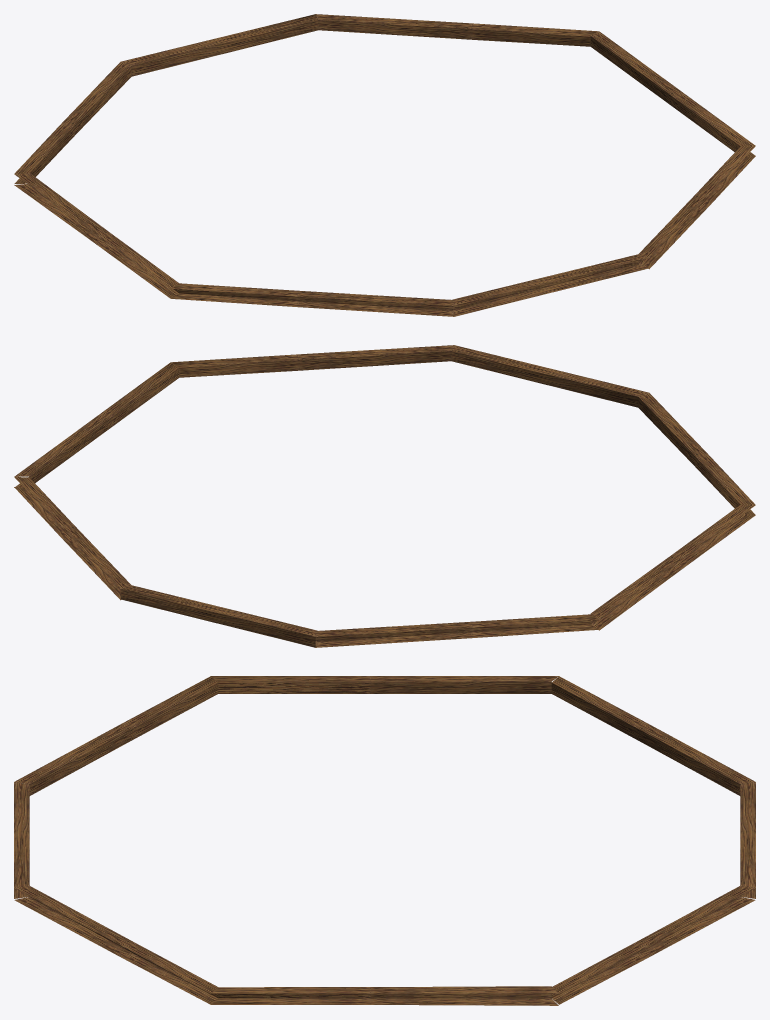
File: LAKETOWN_WAREHOUSE2_PS_WH2_ROUND_BEAM9948.fbx
3 views of the same model, one above another, from view 1: azimuth 30°, elevation 25°; view 2: azimuth 150°, elevation 25°; view 3: azimuth 270°, elevation 25° (orthographic). The views are drawn at different scales.
Parts seen in each view (by area): view 1: LAKETOWN_WAREHOUSE2_PS_WH2_ROUND_BEAM9948; view 2: LAKETOWN_WAREHOUSE2_PS_WH2_ROUND_BEAM9948; view 3: LAKETOWN_WAREHOUSE2_PS_WH2_ROUND_BEAM9948.
Boxes of the visible parts, left/top/right/bottom form: LAKETOWN_WAREHOUSE2_PS_WH2_ROUND_BEAM9948: left=14, top=14, right=755, bottom=316; LAKETOWN_WAREHOUSE2_PS_WH2_ROUND_BEAM9948: left=14, top=345, right=755, bottom=647; LAKETOWN_WAREHOUSE2_PS_WH2_ROUND_BEAM9948: left=14, top=676, right=755, bottom=1005.
Size of the model in its own units: 176339 by 3394 by 174112.
Materials: 1 (1 with a texture image).
